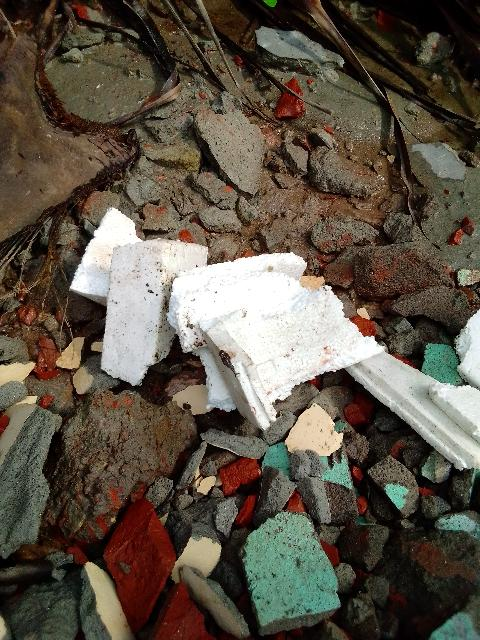cocksheet: (93, 182, 385, 389)
